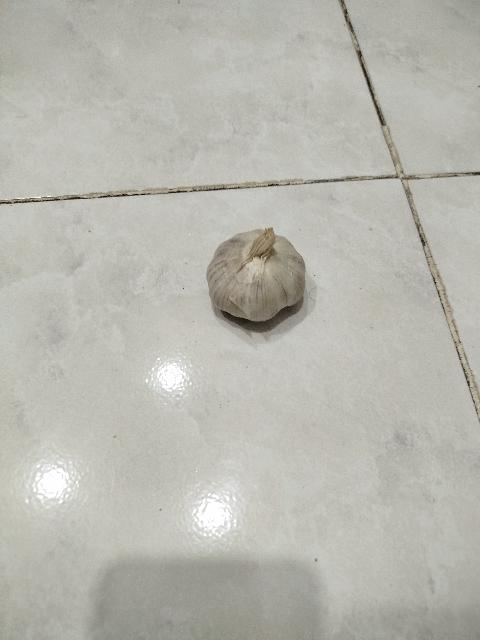garlic: (206, 226, 306, 322)
